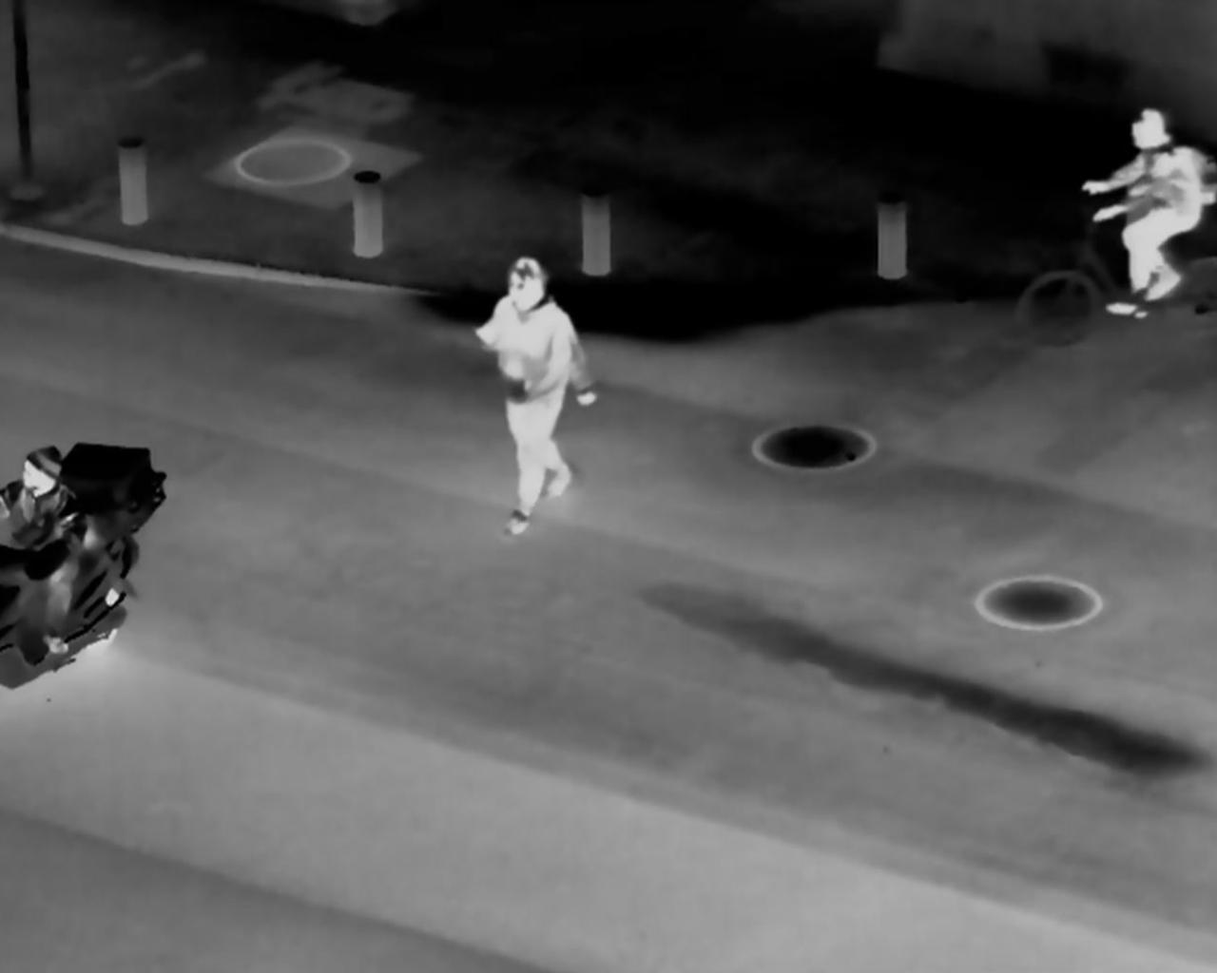person: (474, 235, 595, 543), (1101, 89, 1204, 338), (8, 447, 95, 674)
